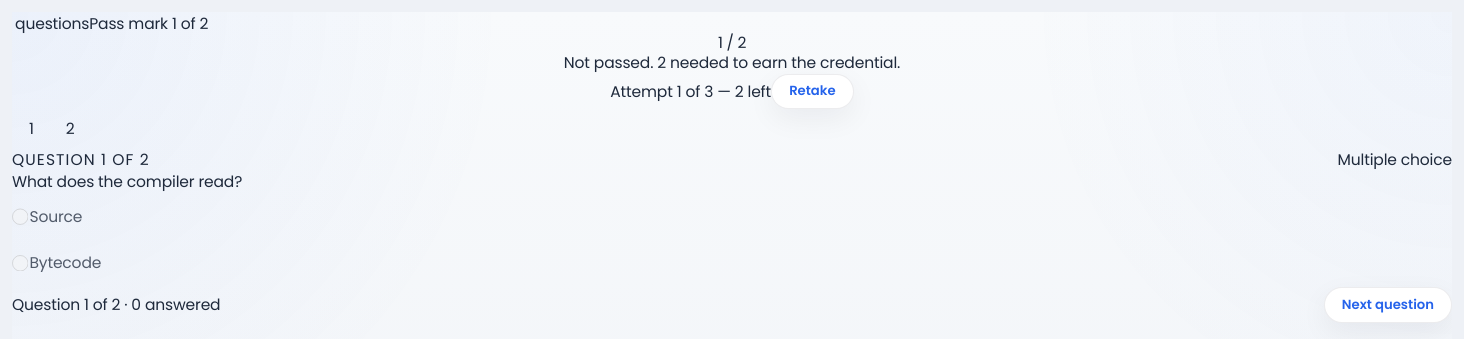
it: going again › turns the paper face down again rather than dealing it
Click the button "Retake".
click(812, 91)  # box [771,74,854,109]
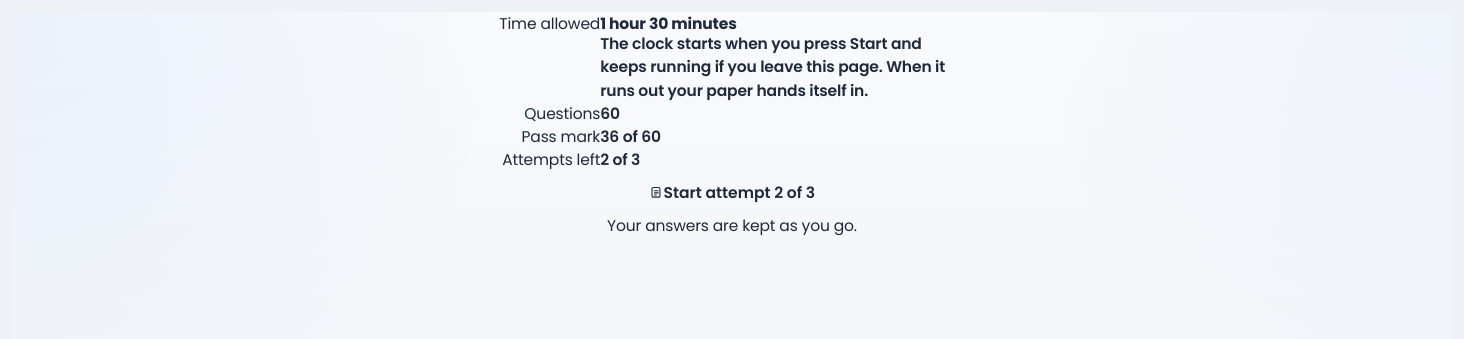
Expected: the text "clock starts when you press Start" is shown, [600,33,945,101]
